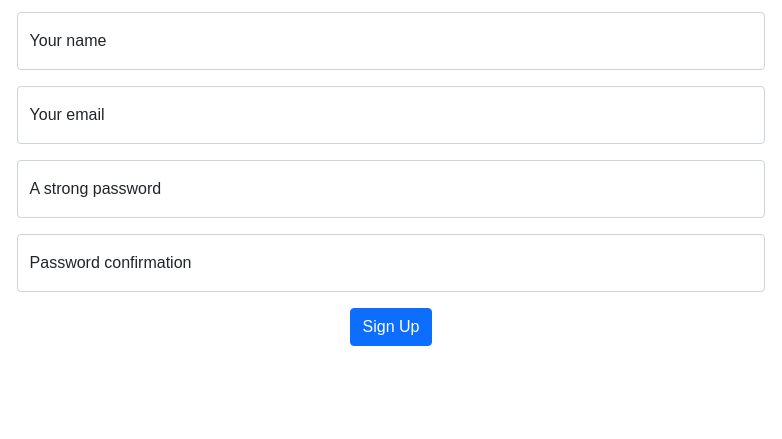
Test case: SignUpForm › form validations › shows errors when empty fields
Click the button "Sign Up" at [391, 327], box [350, 308, 432, 346]
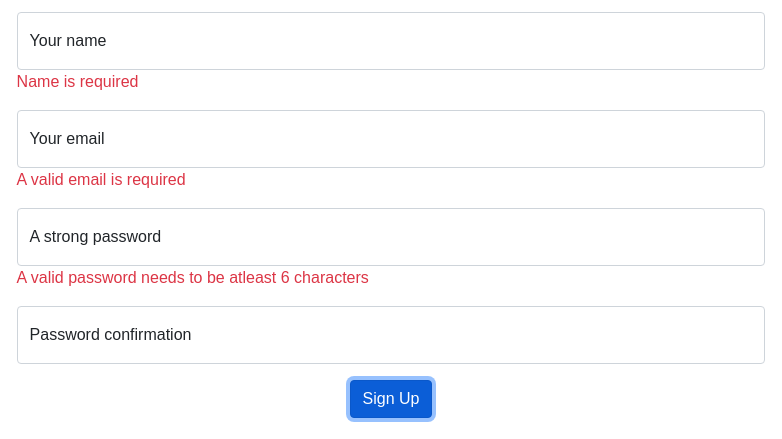
Expected: the text "Name is required" is shown, [17, 73, 138, 90]
Expected: the text "A valid email is required" is shown, [17, 171, 186, 188]
Expected: the text "A valid password needs to be atleast 6 characters" is shown, [17, 269, 369, 286]
